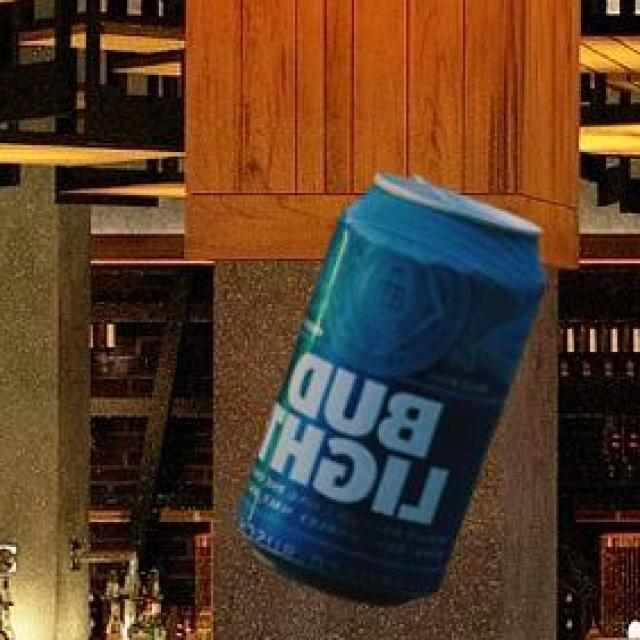logam: (233, 178, 541, 609)
